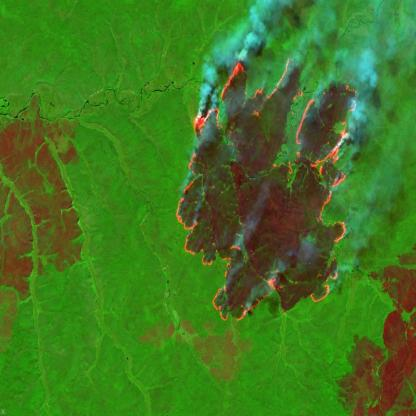fire: (174, 59, 357, 324)
